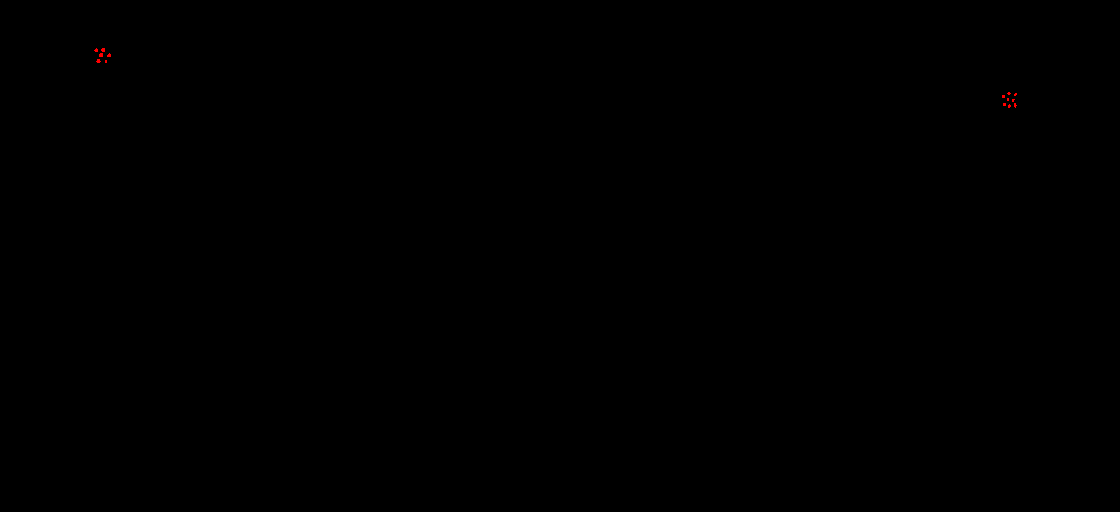Target: (96, 59, 101, 63), (94, 48, 98, 52), (101, 48, 105, 52), (99, 53, 103, 57), (107, 53, 111, 57), (1014, 103, 1017, 108), (1007, 92, 1011, 95), (1008, 104, 1011, 108), (1014, 93, 1017, 96), (1002, 95, 1005, 98), (1012, 99, 1015, 102), (1003, 103, 1006, 106), (105, 60, 107, 63), (1007, 98, 1009, 101)
